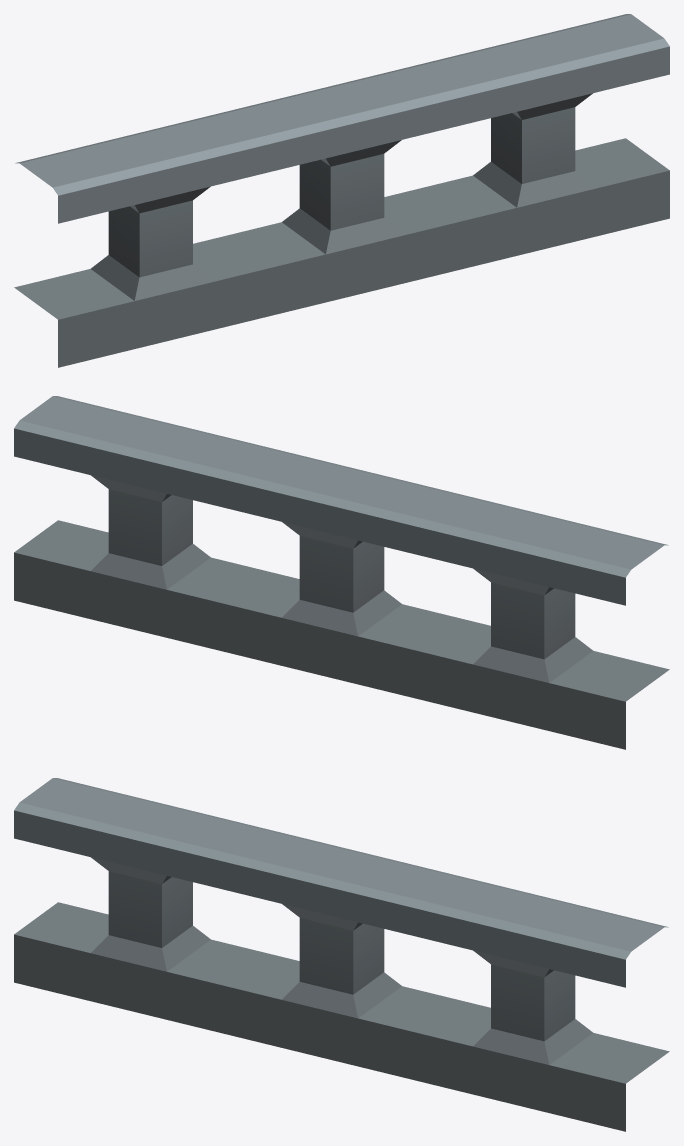
File: kay-barreira.gltf
3 views of the same model, one above another, from view 1: azimuth 30°, elevation 25°; view 2: azimuth 150°, elevation 25°; view 3: azimuth 330°, elevation 25° (orthographic).
Parts seen in each view (by area): view 1: barrier; view 2: barrier; view 3: barrier.
Boxes of the visible parts, x1=… form: barrier: x1=14, y1=14, x2=669, y2=367; barrier: x1=14, y1=396, x2=669, y2=749; barrier: x1=14, y1=778, x2=669, y2=1131.
Bounding box in the file's own units: 2.6 × 0.7152 × 0.325.
1 material, 1 textured.
